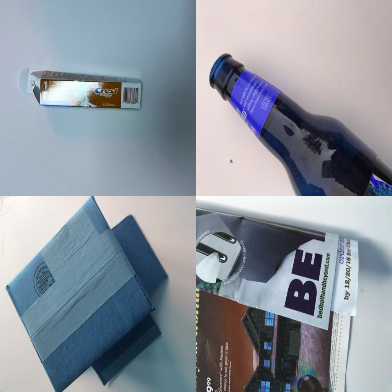cardboard: (5, 196, 170, 392), (17, 69, 142, 110)
glass: (208, 53, 392, 195)
paper: (196, 207, 360, 392)
